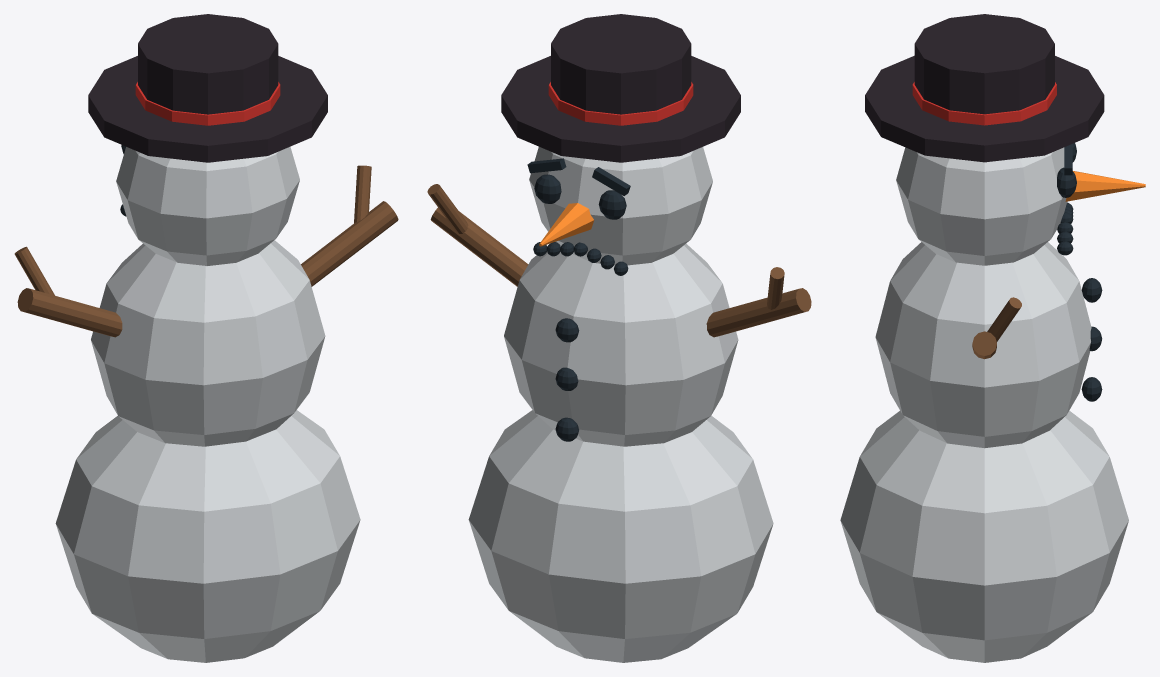
File: snowman.glb
3 views of the same model, side by side, from view 1: azimuth 30°, elevation 25°; view 2: azimuth 150°, elevation 25°; view 3: azimuth 270°, elevation 25° (orthographic).
Visible parts, largest first — view 1: Snow_base, Snow_middle, Snow_head, Hat_brim, Hat_crown, Branch_arm.001, Branch_arm, Hat_red_band, Branch_finger.001, Branch_finger; view 2: Snow_base, Snow_middle, Snow_head, Hat_brim, Hat_crown, Branch_arm, Branch_arm.001, Hat_red_band, Carrot_nose, Branch_finger.001, Coal_eye, Coal_eye.001 (+1 smaller); view 3: Snow_base, Snow_middle, Snow_head, Hat_brim, Hat_crown, Hat_red_band, Carrot_nose, Branch_finger.001, Branch_arm.001, Coal_eye.001.
Part boxes in pixels (bbox=[...]): Snow_base: bbox=[55, 410, 360, 662]; Snow_middle: bbox=[91, 240, 325, 446]; Snow_head: bbox=[116, 147, 299, 265]; Hat_brim: bbox=[88, 56, 327, 162]; Hat_crown: bbox=[138, 14, 278, 114]; Branch_arm.001: bbox=[301, 201, 398, 286]; Branch_arm: bbox=[17, 288, 122, 337]; Hat_red_band: bbox=[135, 82, 280, 125]; Branch_finger.001: bbox=[354, 165, 371, 223]; Branch_finger: bbox=[14, 246, 54, 295]; Snow_base: bbox=[468, 410, 773, 662]; Snow_middle: bbox=[504, 241, 738, 446]; Snow_head: bbox=[529, 146, 712, 265]; Hat_brim: bbox=[501, 56, 740, 162]; Hat_crown: bbox=[551, 14, 691, 114]; Branch_arm: bbox=[706, 288, 811, 337]; Branch_arm.001: bbox=[430, 207, 528, 286]; Hat_red_band: bbox=[548, 82, 693, 125]; Carrot_nose: bbox=[539, 203, 594, 246]; Branch_finger.001: bbox=[427, 184, 468, 233]; Coal_eye: bbox=[598, 190, 626, 219]; Coal_eye.001: bbox=[534, 174, 561, 203]; Snow_base: bbox=[840, 410, 1128, 662]; Snow_middle: bbox=[875, 242, 1091, 448]; Snow_head: bbox=[896, 147, 1066, 265]; Hat_brim: bbox=[865, 55, 1104, 162]; Hat_crown: bbox=[914, 14, 1054, 114]; Hat_red_band: bbox=[912, 82, 1056, 125]; Carrot_nose: bbox=[1065, 171, 1145, 201]; Branch_finger.001: bbox=[987, 297, 1021, 342]; Branch_arm.001: bbox=[972, 331, 996, 359]; Coal_eye.001: bbox=[1057, 167, 1076, 197].
Size of the model in its own units: 2.09 by 3.23 by 1.48.
